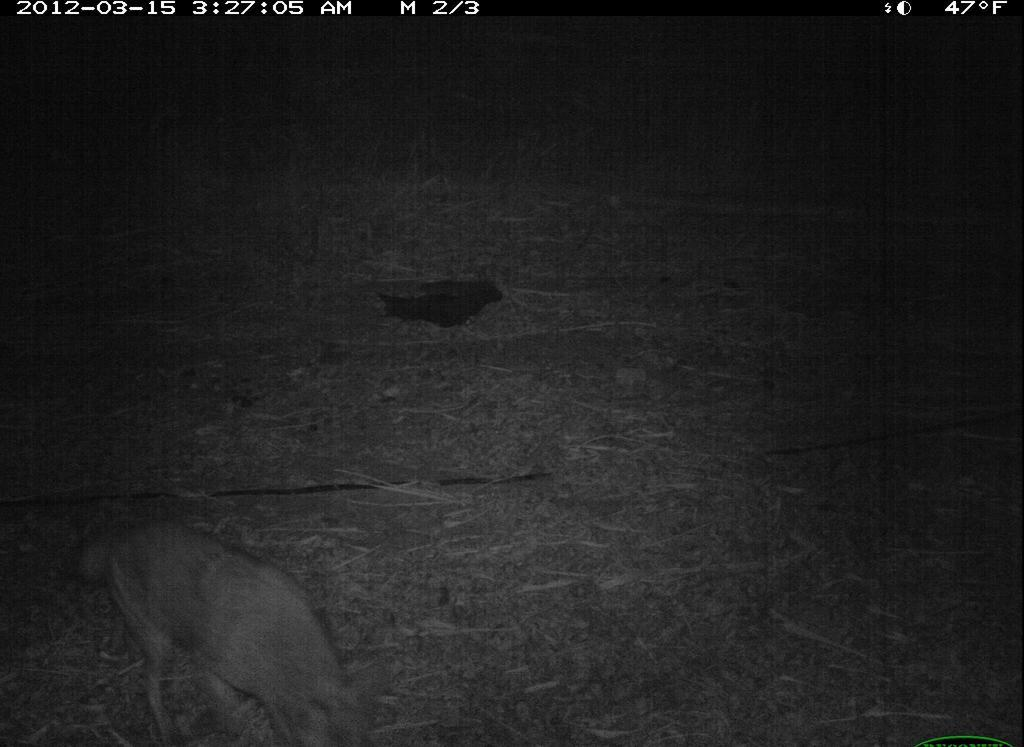coyote: (67, 516, 377, 747)
